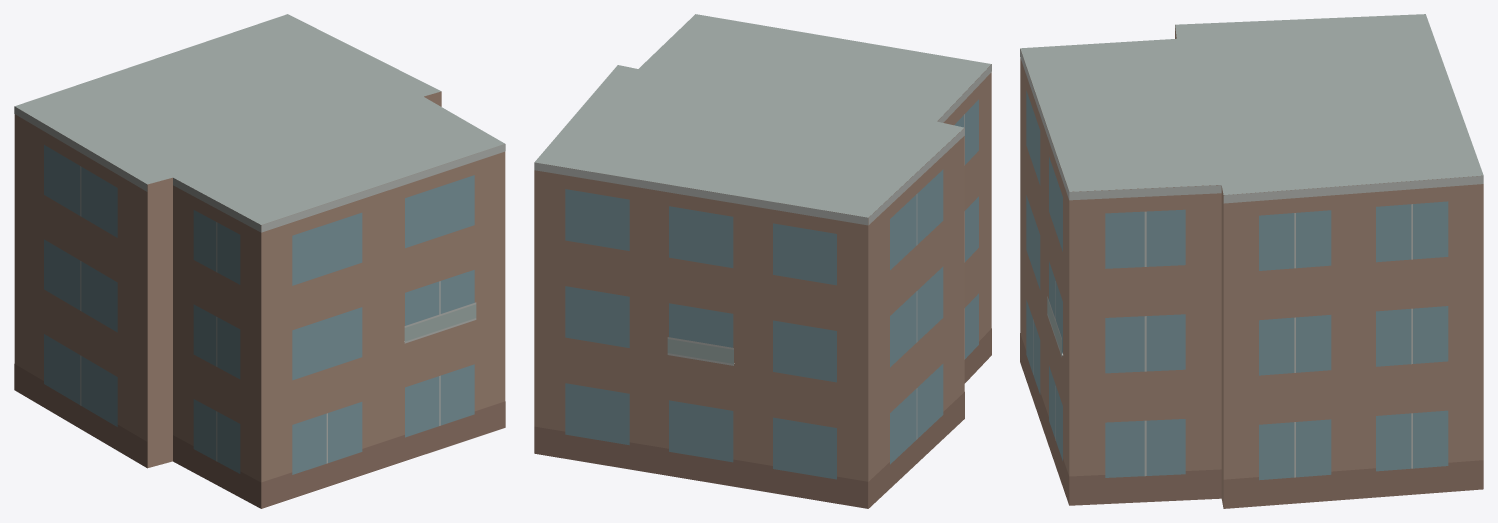
Rendered from survey-upis-33001481.glb.
3 views of the same model, side by side, from view 1: azimuth 30°, elevation 25°; view 2: azimuth 150°, elevation 25°; view 3: azimuth 270°, elevation 25° (orthographic). The views are drawn at different scales.
Visible parts, largest first — view 1: survey-upis-33001481.tmp; view 2: survey-upis-33001481.tmp; view 3: survey-upis-33001481.tmp.
Part boxes in pixels (x1,y1,x2,y2): survey-upis-33001481.tmp: (14,14,505,508); survey-upis-33001481.tmp: (534,14,991,508); survey-upis-33001481.tmp: (1020,14,1483,508).
Bounding box in the file's own units: 11.28 × 9.1 × 12.2.
